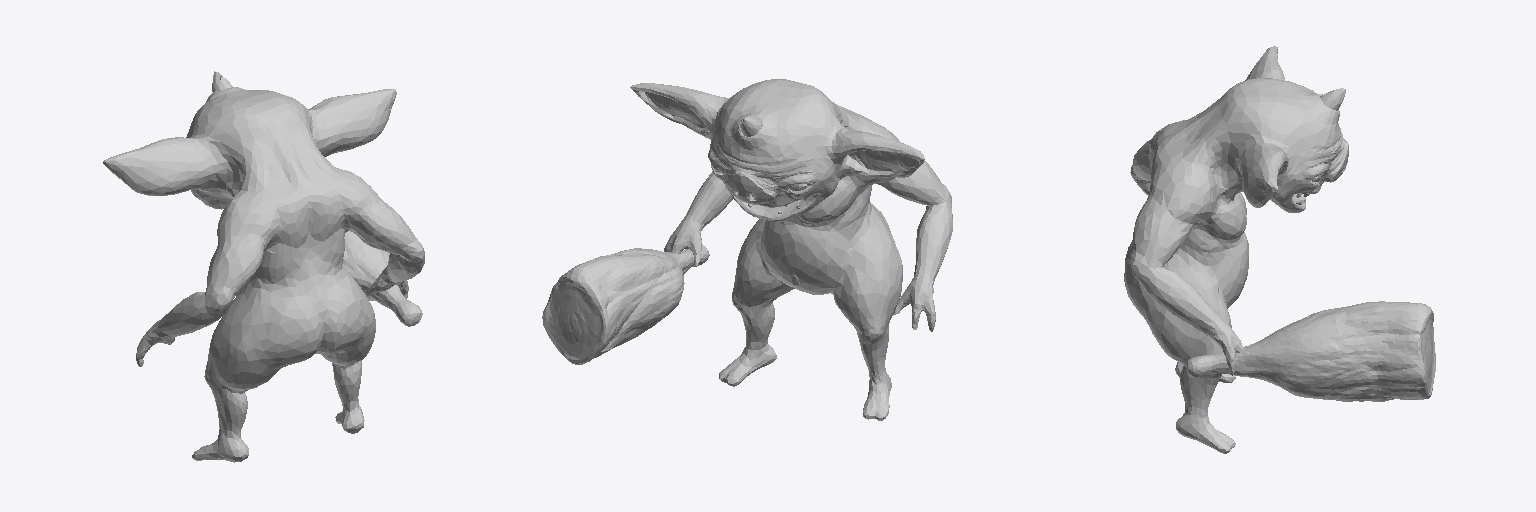
File: Bokoblin-centered.obj
The picture shows the model from 3 angles: view 1: azimuth 30°, elevation 25°; view 2: azimuth 150°, elevation 25°; view 3: azimuth 270°, elevation 25°; orthographic projection.
Visible parts, largest first — view 1: Group18025; view 2: Group18025; view 3: Group18025.
Boxes of the visible parts, <box> form: Group18025: <box>103,71,424,462</box>; Group18025: <box>542,79,952,420</box>; Group18025: <box>1124,46,1435,453</box>.
Bounding box in the file's own units: 6.09 × 6.15 × 5.32.